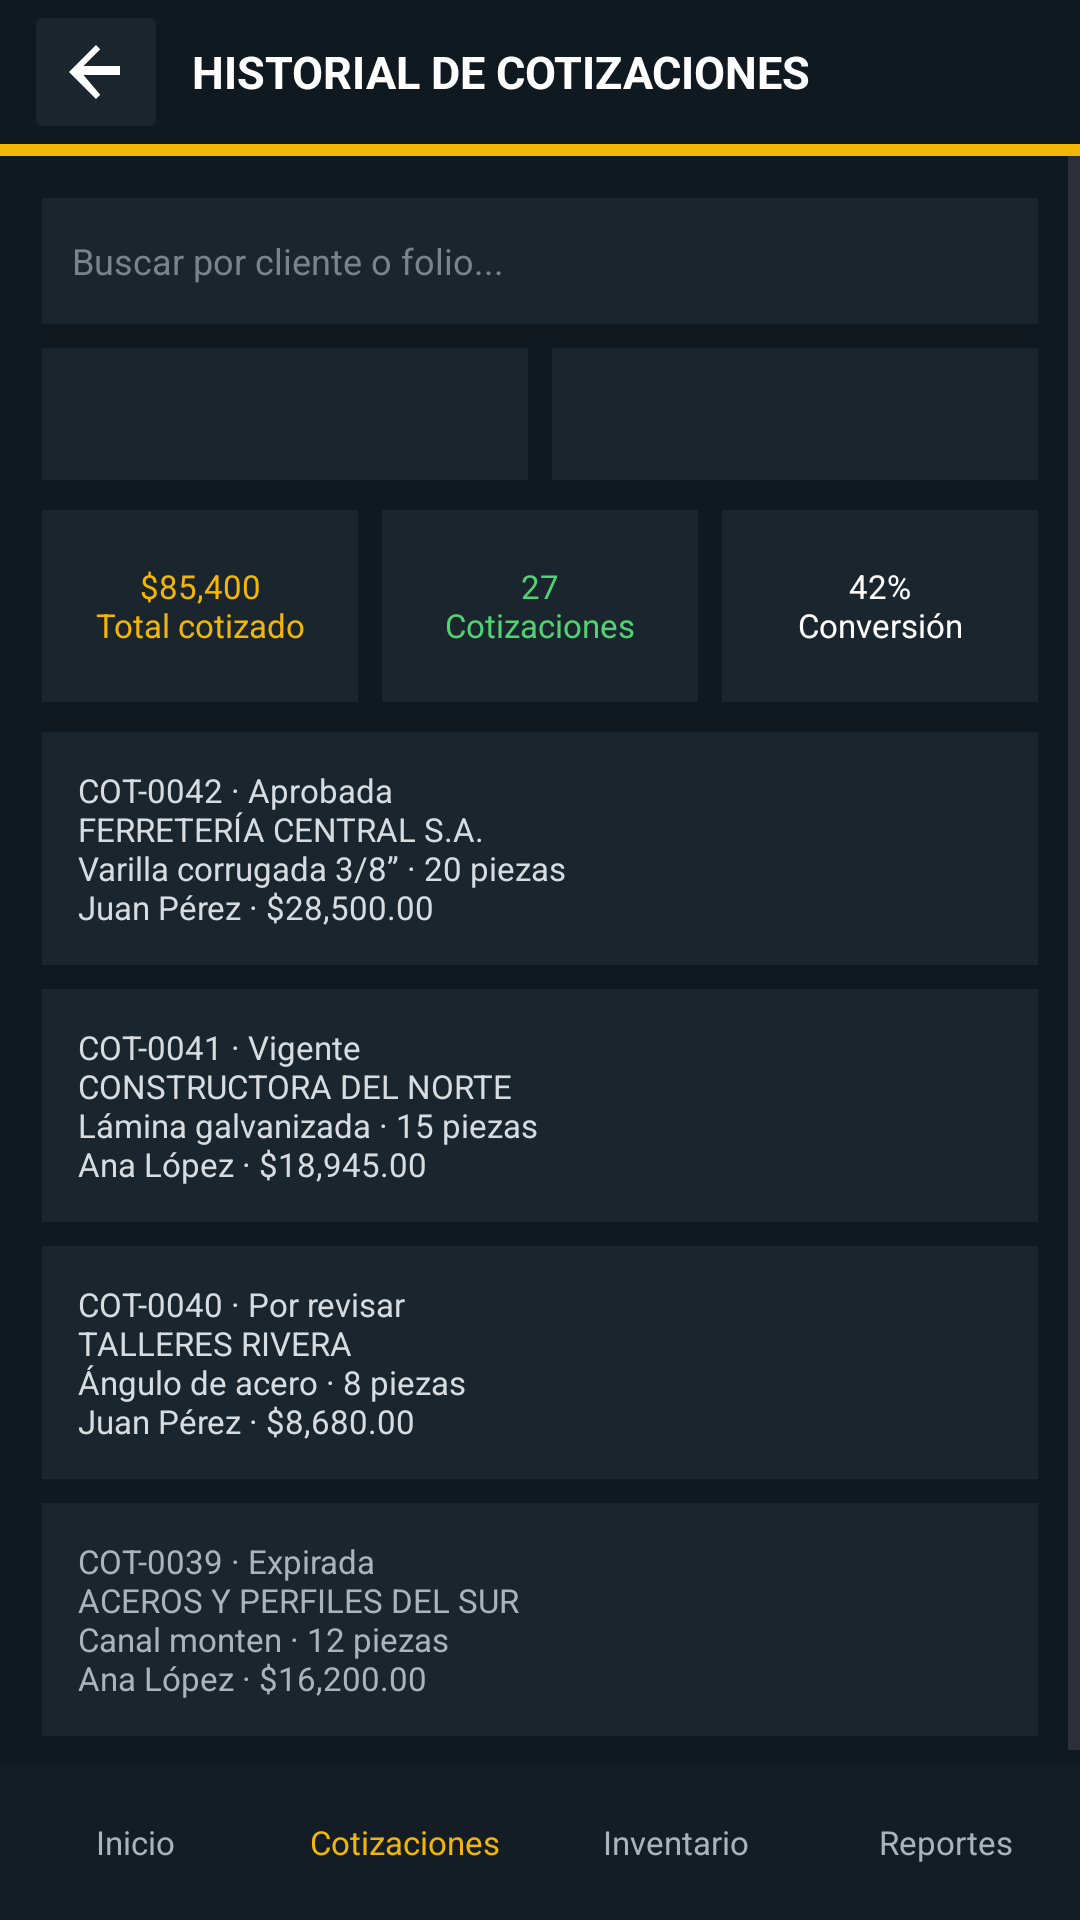

Icons on this 1080×1920 Android screen, each with its box as Rect(x1, y1, x2, y2):
Volver: Rect(36, 18, 156, 126)
